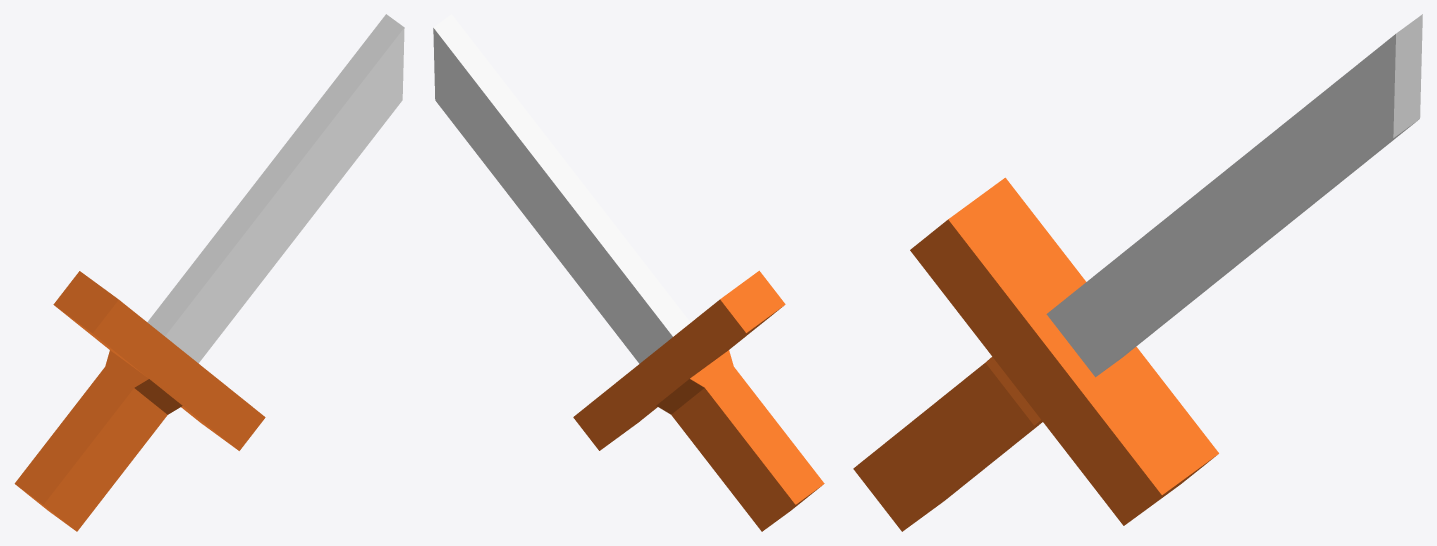
File: Mini-Sword.fbx
3 renders of one model, left to right at view 1: azimuth 30°, elevation 25°; view 2: azimuth 150°, elevation 25°; view 3: azimuth 330°, elevation 25°, orthographic. The views are drawn at different scales.
Visible parts, largest first — view 1: Cube; view 2: Cube; view 3: Cube.
Boxes of the visible parts, x1,y1,x2,y2 form: Cube: (14,14,404,531); Cube: (433,14,824,531); Cube: (853,14,1422,531).
Bounding box in the file's own units: 157 × 172 × 29.23.
